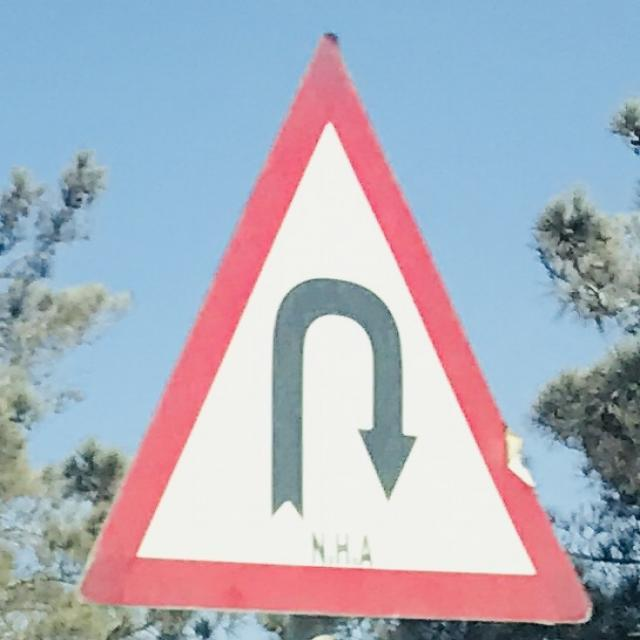u turn: (82, 37, 594, 619)
